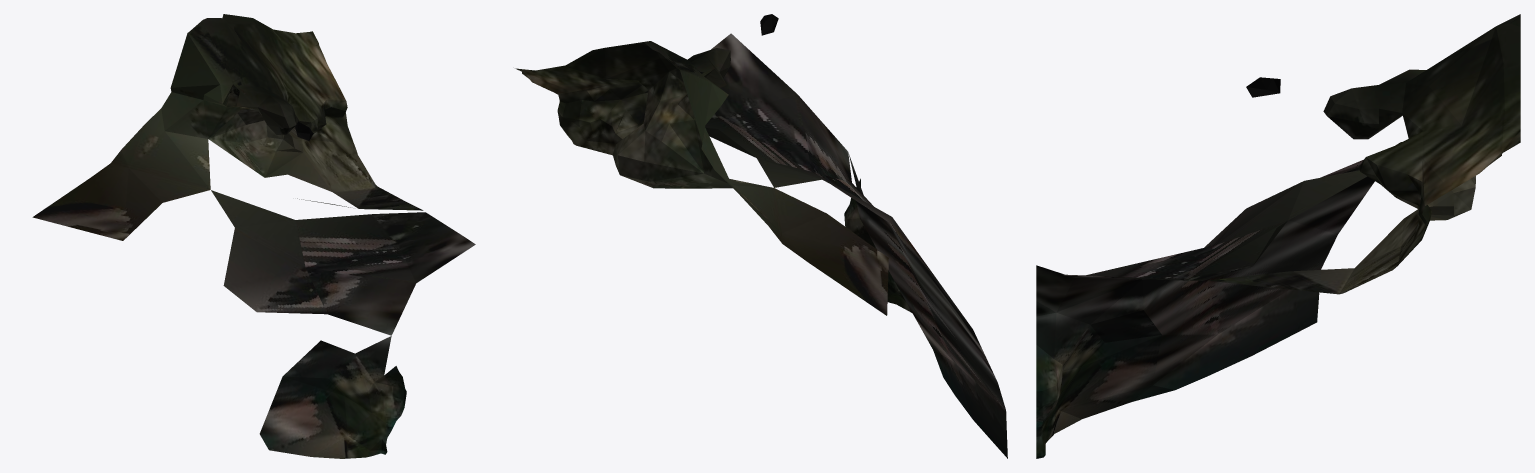
3 renders of one model, left to right at view 1: azimuth 30°, elevation 25°; view 2: azimuth 150°, elevation 25°; view 3: azimuth 270°, elevation 25°, orthographic. The views are drawn at different scales.
Bounding box in the file's own units: 0.8374 × 0.8374 × 0.8374.
3 materials, 3 textured.
